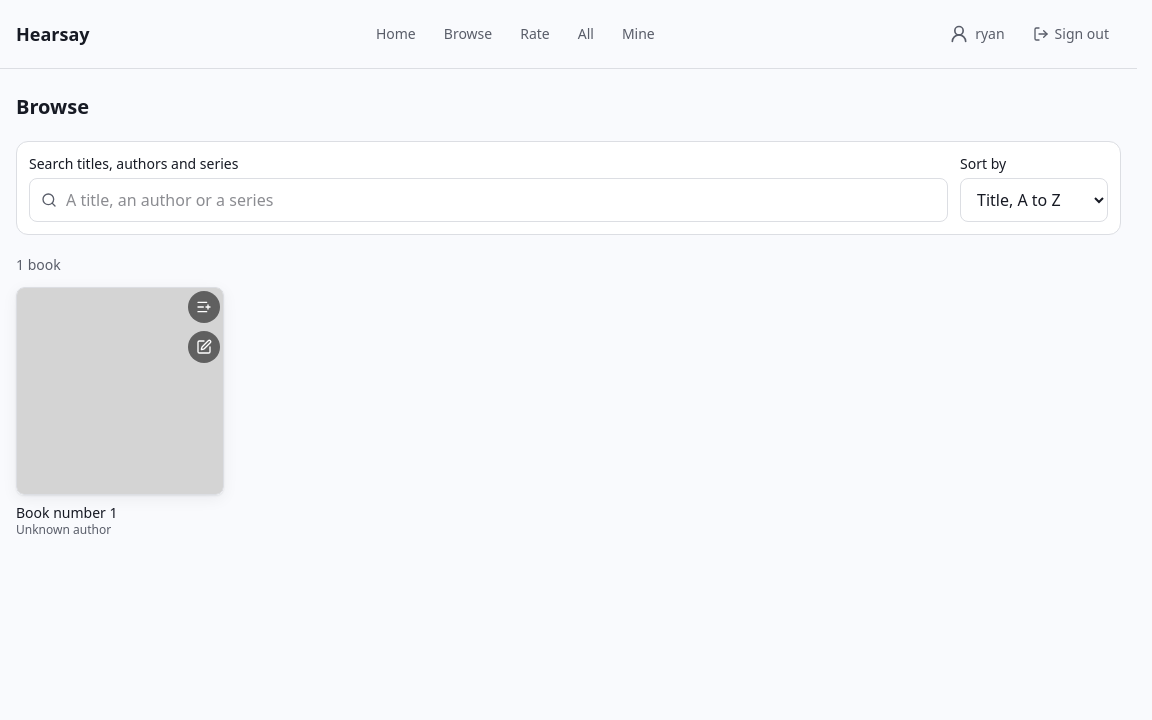
Test: the Up next list › is added to from Browse, and the button then says it's there
Step 1. Click the button named "Add Book number 1 to Up next" → (204, 307), box [184,287,224,327]
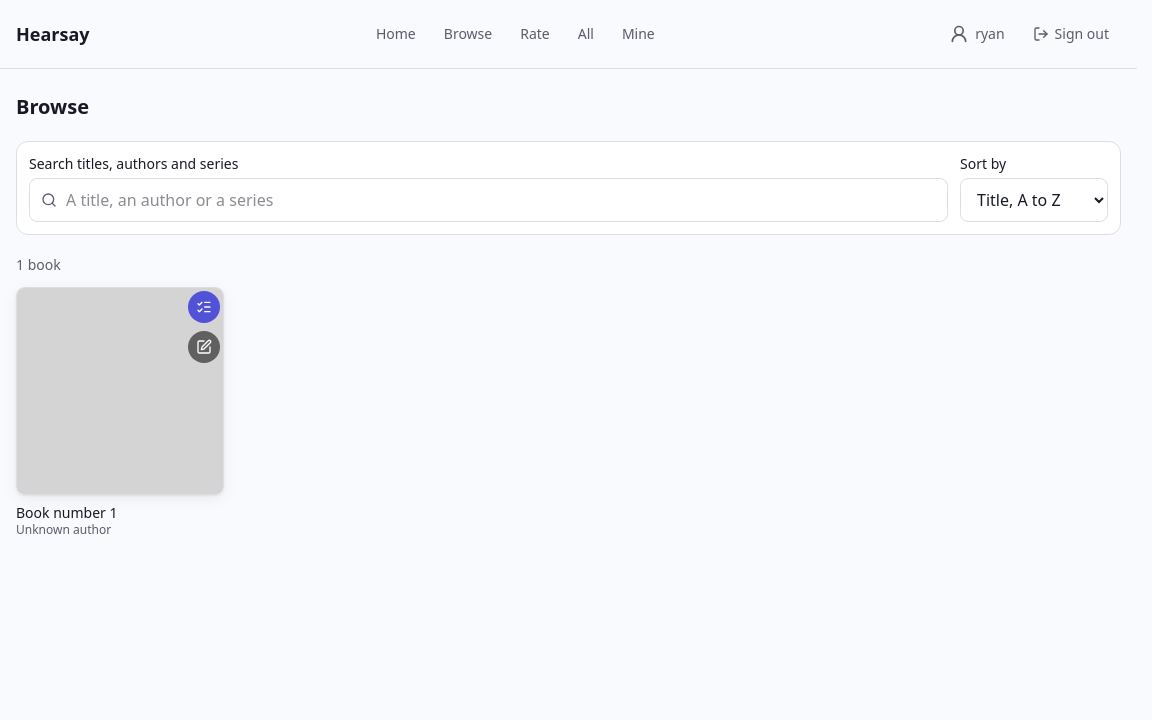
Now the link named "Book number 1 is on your Up next list" is shown, box [188,291,220,323]
